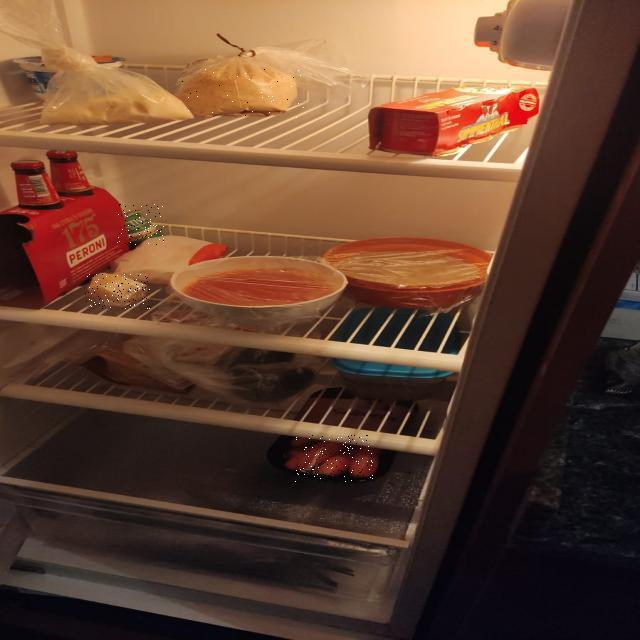carrots: (295, 435, 374, 483)
cheese: (181, 65, 304, 118), (85, 274, 150, 309)
yoghurt: (116, 204, 166, 245)
